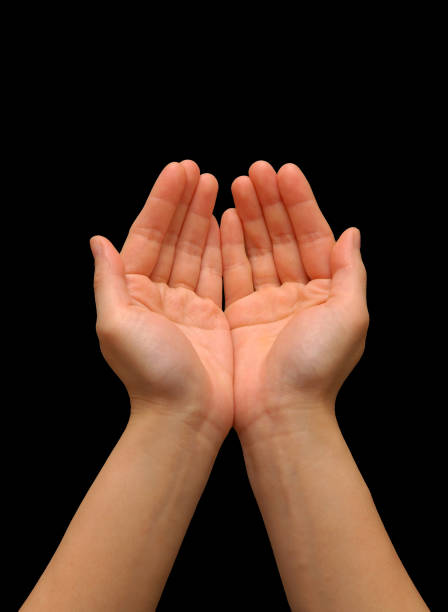hand: (65, 131, 384, 441)
